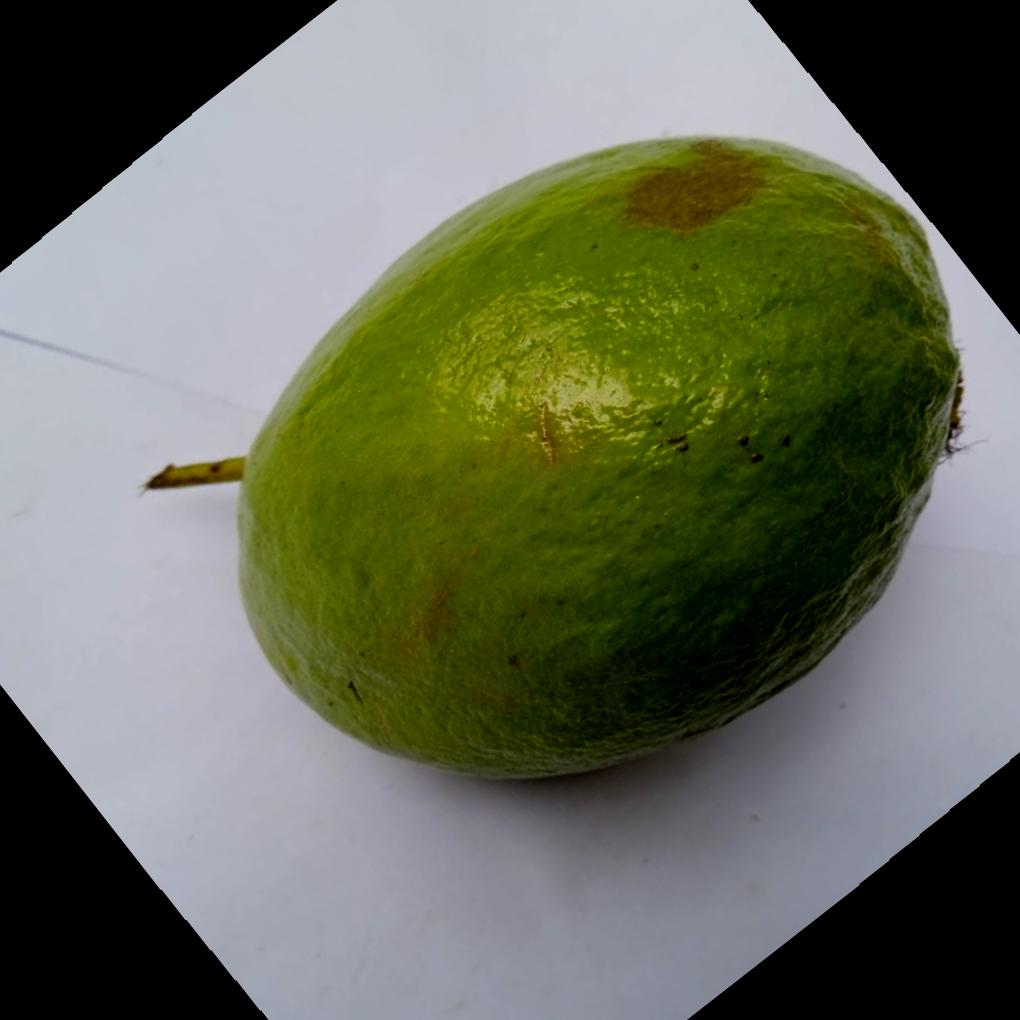FreshGuava: (195, 131, 962, 780)
